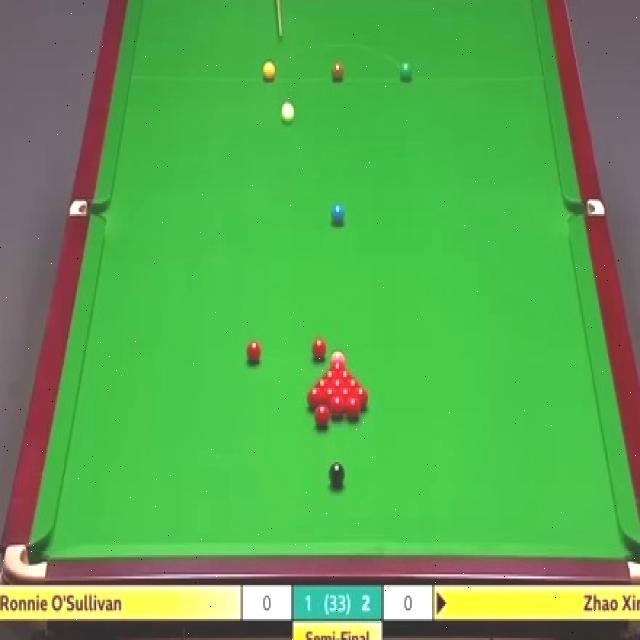black-ball: (328, 463, 346, 488)
blue-ball: (330, 202, 346, 226)
brown-ball: (331, 62, 345, 83)
green-ball: (400, 61, 412, 82)
pink-ball: (331, 349, 346, 363)
red-ball: (345, 396, 361, 422), (314, 405, 330, 430), (246, 340, 261, 366), (311, 339, 327, 363), (307, 388, 323, 412), (330, 397, 346, 420), (352, 388, 368, 409), (337, 388, 353, 402), (337, 370, 353, 384), (314, 379, 331, 392), (346, 378, 360, 392), (323, 388, 336, 403), (330, 380, 345, 392), (322, 370, 340, 379), (330, 362, 345, 371)
white-ball: (279, 100, 294, 121)
yellow-ball: (263, 59, 275, 82)
